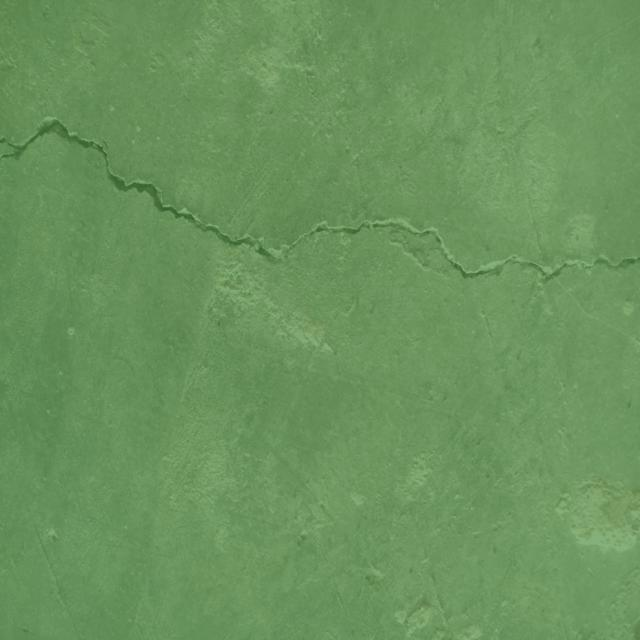crack: (0, 119, 283, 266), (283, 220, 640, 284)
